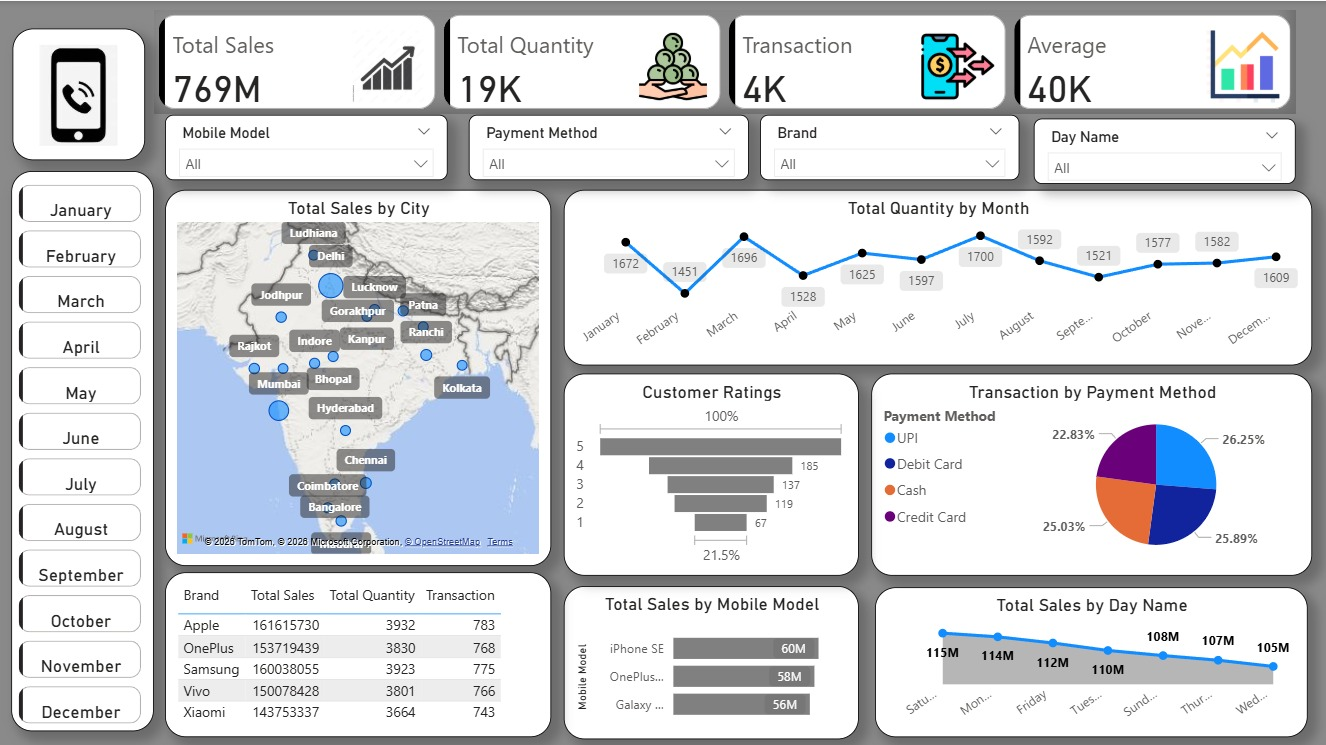

The dashboard page shown, as its layout file describes it:
{"tool":"powerbi","page":{"name":"Page 1","canvas":[1280,720],"ordinal":0},"visuals":[{"type":"shape","box":[11.8,27.1,128.2,127.1],"z":0},{"type":"image","box":[10.6,37.6,129.4,107.1],"z":1000},{"type":"shape","box":[10.6,163.5,137.6,541.2],"z":2000},{"type":"advancedSlicerVisual","fields":{"Values":["Sales Data.Date.Variation.Date Hierarchy.Month"]},"box":[12.9,172.9,128.2,531.8],"z":3000},{"type":"cardVisual","fields":{"Data":["Sales_Data.Total Sales","Sales_Data.Total Quantity","Sales_Data.Transaction","Sales_Data.Average"]},"box":[148.2,8.2,1102.4,101.2],"z":4000},{"type":"map","fields":{"Category":["Sales_Data.City"],"Size":["Sales_Data.Total Sales"]},"box":[158.8,182.4,372.9,363.5],"z":5000},{"type":"lineChart","fields":{"Y":["Sales_Data.Total Quantity"],"Category":["Sales_Data.Date.Variation.Date Hierarchy.Month","Sales_Data.Date.Variation.Date Hierarchy.Day"]},"box":[544.7,182.4,722.4,169.4],"z":6000},{"type":"clusteredBarChart","fields":{"Category":["Sales_Data.Mobile Model"],"Y":["Sales_Data.Total Sales"]},"box":[544.7,564.7,284.7,148.2],"z":7000},{"type":"pieChart","fields":{"Y":["Sales_Data.Transaction"],"Category":["Sales_Data.Payment Method"]},"box":[841.2,360,425.9,195.3],"z":8000},{"type":"funnel","title":"Customer Ratings","fields":{"Category":["Sales_Data.Customer Ratings"],"Y":["CountNonNull(Sales_Data.Customer Ratings)"]},"box":[544.7,360,284.7,195.3],"z":9000},{"type":"areaChart","fields":{"Category":["Sales_Data.Day Name"],"Y":["Sales_Data.Total Sales"]},"box":[844.7,565.9,417.6,144.7],"z":10000},{"type":"tableEx","fields":{"Values":["Sales_Data.Brand","Sales_Data.Total Sales","Sales_Data.Total Quantity","Sales_Data.Transaction"]},"box":[158.8,551.8,372.9,158.8],"z":11000},{"type":"slicer","fields":{"Values":["Sales_Data.Mobile Model"]},"box":[158.8,109.4,272.9,63.5],"z":12000},{"type":"slicer","fields":{"Values":["Sales_Data.Payment Method"]},"box":[452.9,109.4,270.6,63.5],"z":12001},{"type":"slicer","fields":{"Values":["Sales_Data.Brand"]},"box":[734.1,109.4,250.6,63.5],"z":12002},{"type":"slicer","fields":{"Values":["Sales_Data.Day Name"]},"box":[997.6,112.9,252.9,63.5],"z":12003}]}

Visuals, with their boxes in screenshot pixels (x1, y1, x2, y2), scaled from the page's 1280x720 canvas onto the 1326x745 screenshot:
shape: select_region(12, 28, 145, 160)
image: select_region(11, 39, 145, 150)
shape: select_region(11, 169, 154, 729)
advancedSlicerVisual - Sales Data.Date.Variation.Date Hierarchy.Month: select_region(13, 179, 146, 729)
cardVisual - Sales_Data.Total Sales x Sales_Data.Total Quantity: select_region(154, 8, 1296, 113)
map - Sales_Data.City x Sales_Data.Total Sales: select_region(165, 189, 551, 565)
lineChart - Sales_Data.Total Quantity x Sales_Data.Date.Variation.Date Hierarchy.Month: select_region(564, 189, 1313, 364)
clusteredBarChart - Sales_Data.Mobile Model x Sales_Data.Total Sales: select_region(564, 584, 859, 738)
pieChart - Sales_Data.Transaction x Sales_Data.Payment Method: select_region(871, 373, 1313, 575)
"Customer Ratings" funnel: select_region(564, 373, 859, 575)
areaChart - Sales_Data.Day Name x Sales_Data.Total Sales: select_region(875, 586, 1308, 735)
tableEx - Sales_Data.Brand x Sales_Data.Total Sales: select_region(165, 571, 551, 735)
slicer - Sales_Data.Mobile Model: select_region(165, 113, 447, 179)
slicer - Sales_Data.Payment Method: select_region(469, 113, 750, 179)
slicer - Sales_Data.Brand: select_region(760, 113, 1020, 179)
slicer - Sales_Data.Day Name: select_region(1033, 117, 1295, 183)
